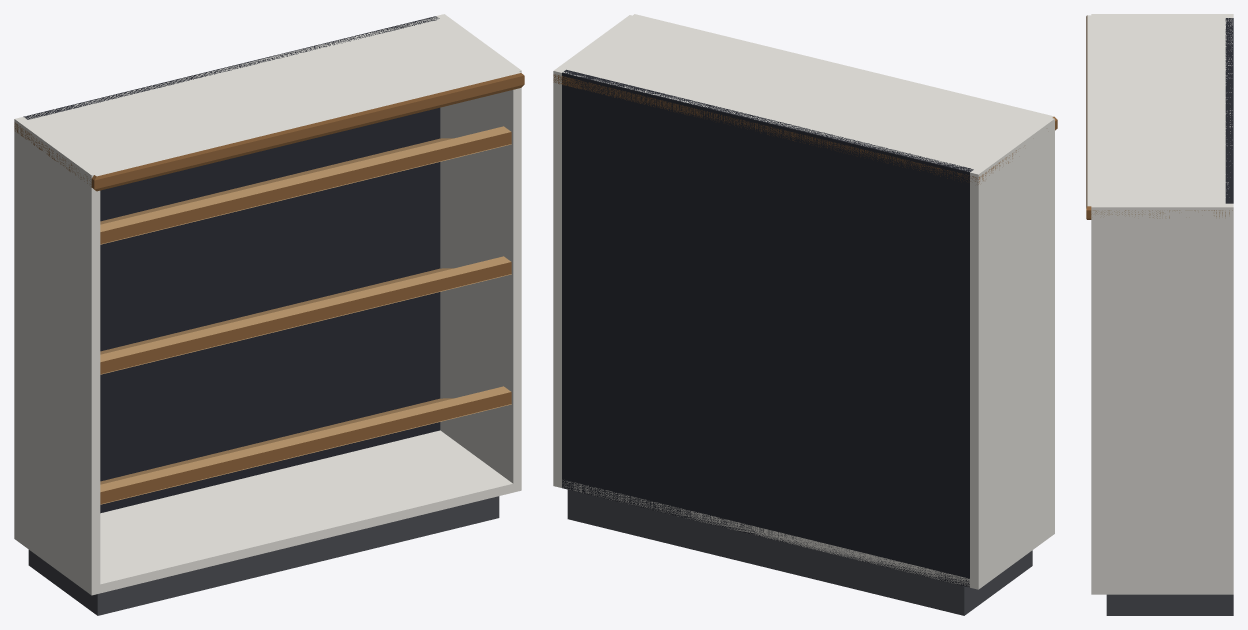
Rendered from FN_Cabinet_Shoe.obj.
3 renders of one model, left to right at view 1: azimuth 30°, elevation 25°; view 2: azimuth 150°, elevation 25°; view 3: azimuth 270°, elevation 25°, orthographic. The views are drawn at different scales.
Parts seen in each view (by area): view 1: FN_Cabinet_Shoe; view 2: FN_Cabinet_Shoe; view 3: FN_Cabinet_Shoe.
Part boxes in pixels (x1,y1,x2,y2): FN_Cabinet_Shoe: [14, 14, 524, 615]; FN_Cabinet_Shoe: [553, 14, 1057, 615]; FN_Cabinet_Shoe: [1086, 14, 1233, 615].
Bounding box in the file's own units: 0.9 × 0.9 × 0.29.
Materials: 1 (1 with a texture image).
